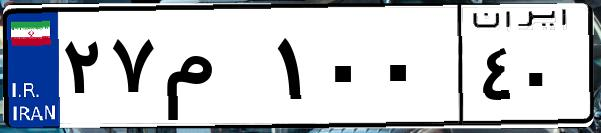0: (385, 28, 445, 110), (330, 28, 385, 110), (525, 38, 570, 115)
1: (270, 28, 330, 110)
2: (57, 26, 110, 100)
4: (475, 38, 525, 113)
7: (110, 28, 158, 98)
م: (158, 20, 270, 120)
